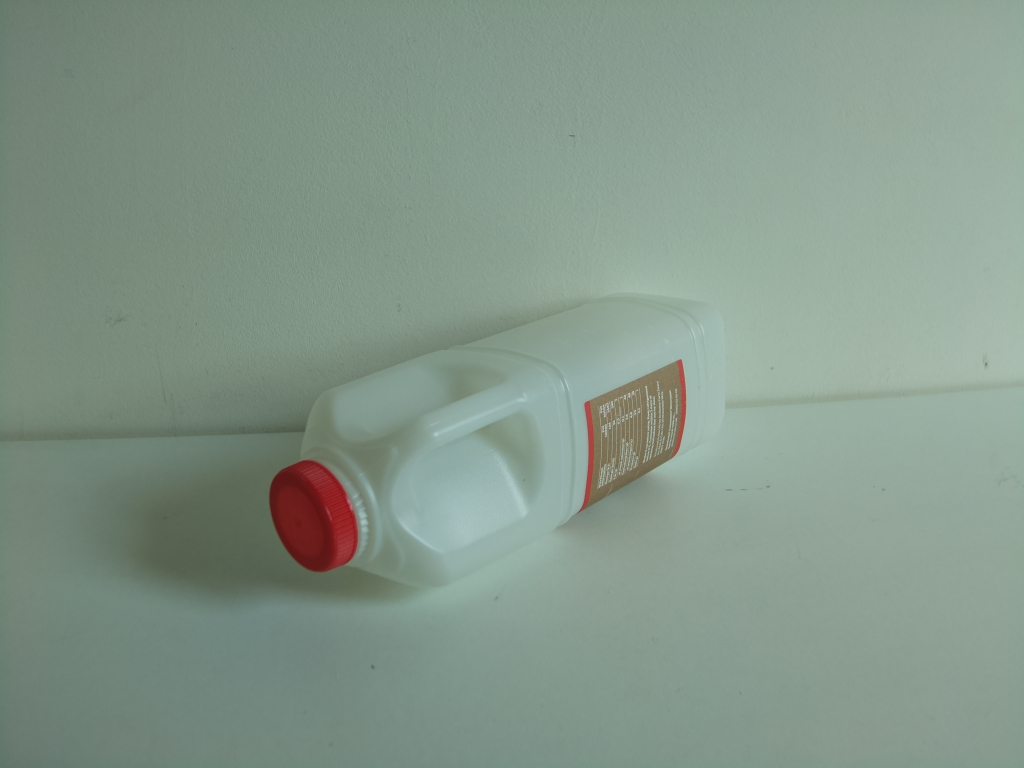milk: (263, 291, 729, 596)
